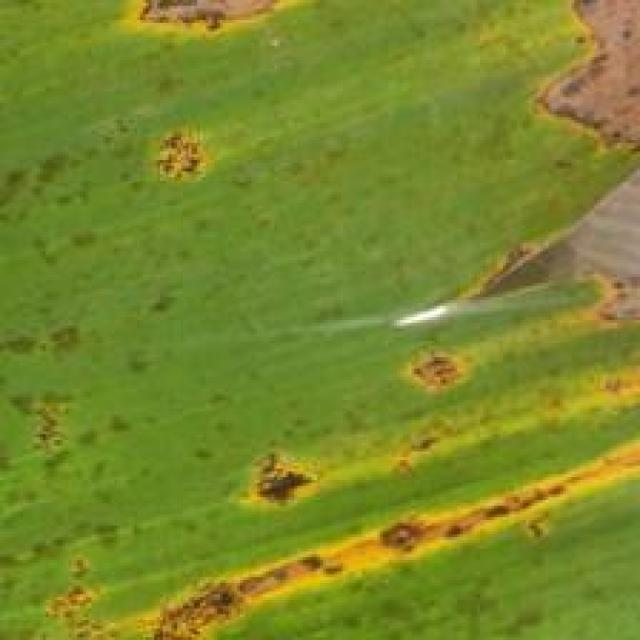Downey_mildrew: (4, 0, 640, 640), (105, 240, 640, 640), (1, 326, 125, 636), (508, 0, 640, 194), (94, 0, 366, 49), (140, 101, 239, 212)
